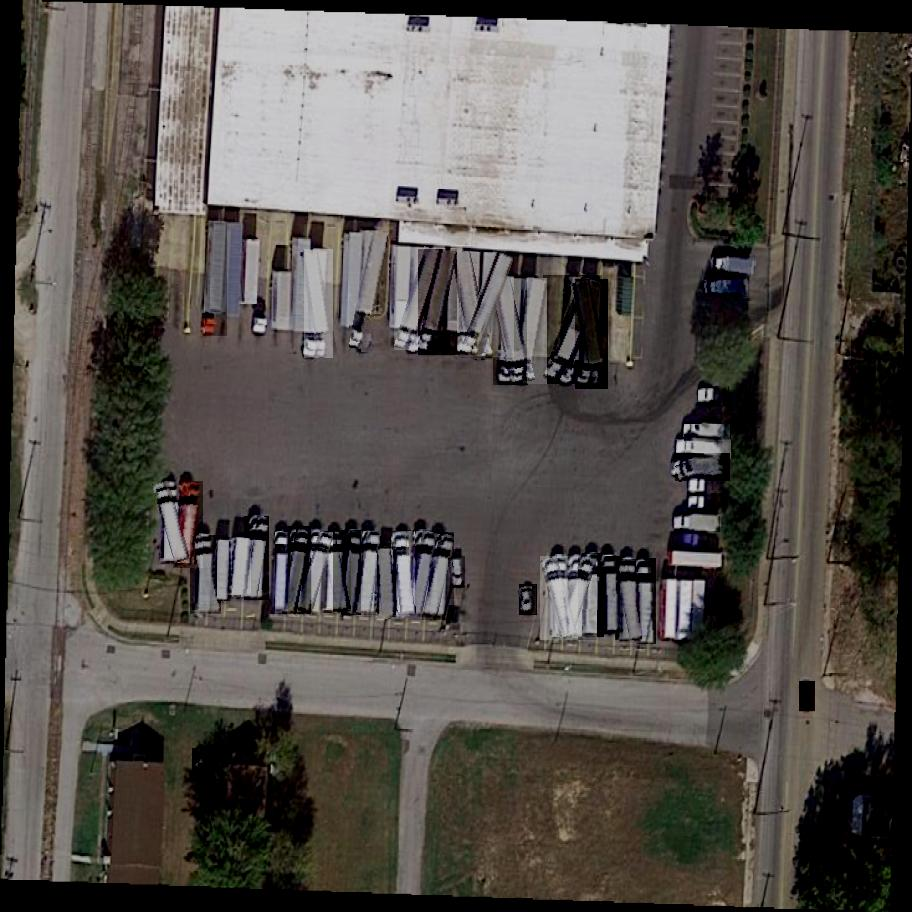large-vehicle: (543, 275, 604, 386), (460, 252, 515, 360), (394, 246, 446, 353), (349, 232, 389, 353), (418, 250, 458, 357), (493, 277, 530, 385), (576, 279, 610, 389), (555, 554, 598, 640), (514, 278, 548, 385), (455, 251, 487, 357), (304, 249, 334, 359), (152, 480, 191, 563), (540, 555, 578, 640), (299, 532, 335, 616), (423, 532, 455, 621), (283, 527, 313, 616), (173, 482, 203, 570), (407, 530, 438, 615), (206, 222, 228, 337), (321, 531, 351, 613), (191, 536, 222, 614), (615, 559, 643, 642), (243, 515, 270, 601), (392, 531, 417, 616), (357, 531, 382, 616), (341, 530, 363, 616), (583, 553, 605, 638), (636, 558, 657, 645), (675, 453, 731, 483), (603, 556, 621, 633), (378, 547, 396, 618), (232, 538, 252, 598), (677, 439, 731, 459), (712, 254, 757, 277), (275, 532, 288, 611), (704, 278, 750, 298), (675, 516, 720, 532), (218, 542, 230, 601), (684, 425, 730, 439)
small-vehicle: (192, 747, 213, 778), (449, 556, 468, 589), (519, 585, 537, 616), (699, 386, 728, 405), (799, 682, 815, 712)
